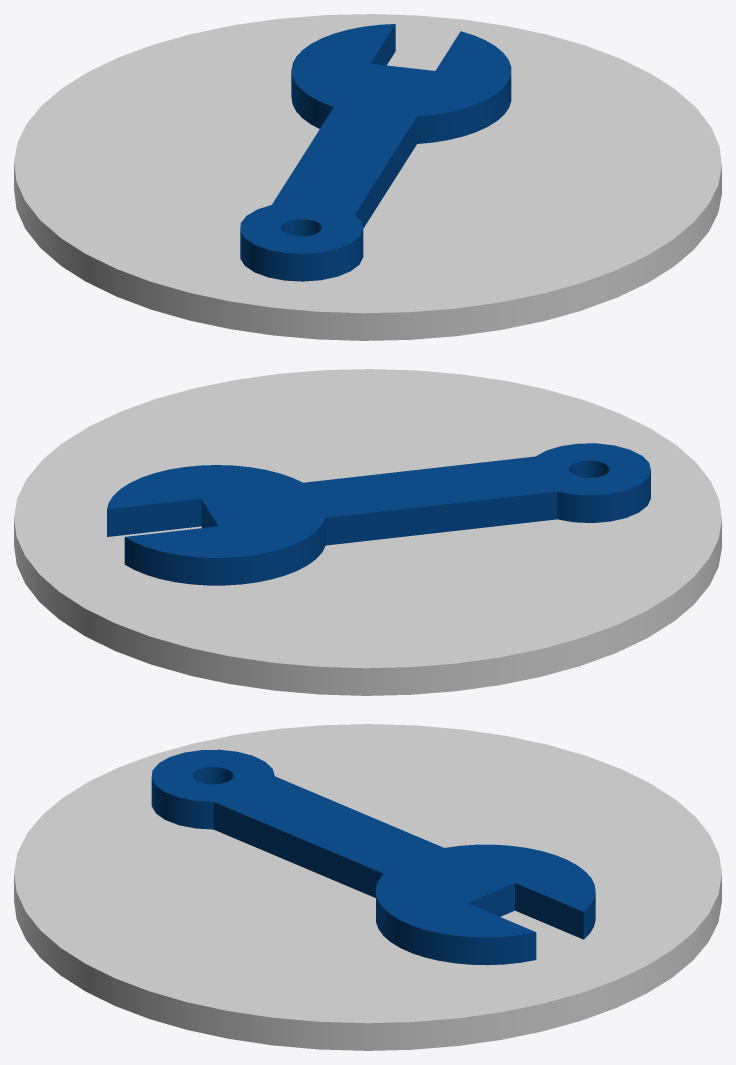
File: MAP ICON1.fbx
3 views of the same model, one above another, from view 1: azimuth 30°, elevation 25°; view 2: azimuth 150°, elevation 25°; view 3: azimuth 270°, elevation 25° (orthographic).
Parts seen in each view (by area): view 1: CIRCLE, ELEMENTS; view 2: CIRCLE, ELEMENTS; view 3: CIRCLE, ELEMENTS.
Part boxes in pixels (x1,y1,x2,y2): CIRCLE: (14, 14, 721, 340); ELEMENTS: (240, 24, 511, 281); CIRCLE: (14, 369, 721, 695); ELEMENTS: (107, 443, 650, 585); CIRCLE: (14, 724, 721, 1050); ELEMENTS: (151, 749, 595, 965).
Size of the model in its own units: 463 by 463 by 40.
